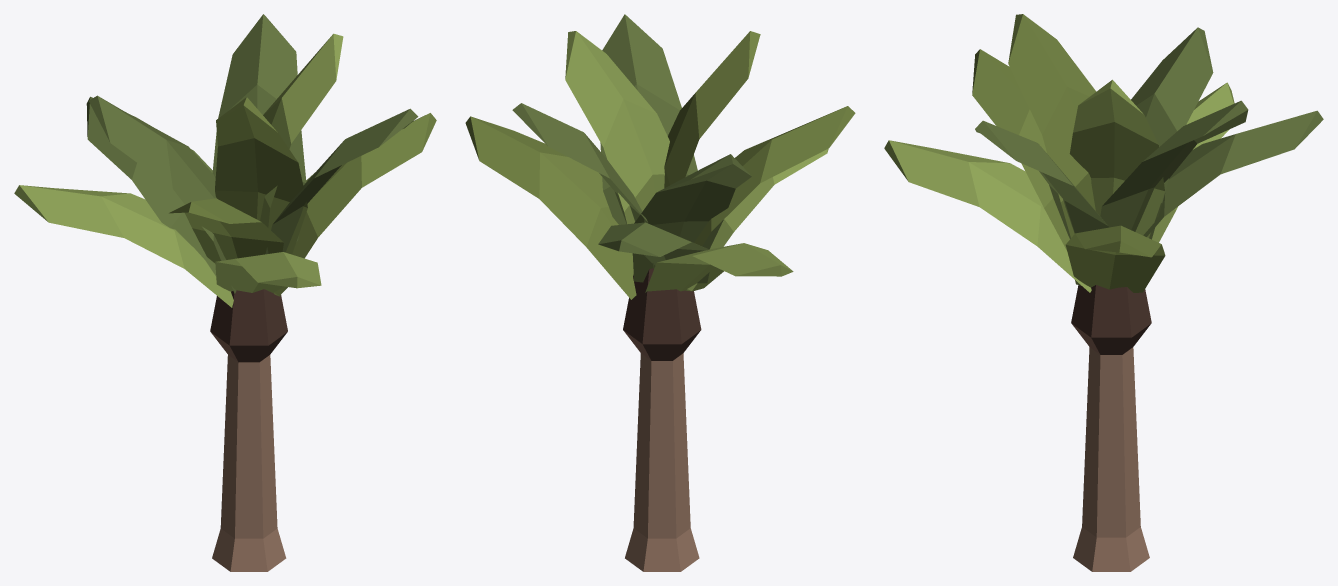
File: Tree_Type7_03.glb
3 views of the same model, side by side, from view 1: azimuth 30°, elevation 25°; view 2: azimuth 150°, elevation 25°; view 3: azimuth 270°, elevation 25° (orthographic). The views are drawn at different scales.
Parts seen in each view (by area): view 1: Tree Type7 03 Model; view 2: Tree Type7 03 Model; view 3: Tree Type7 03 Model.
Part boxes in pixels (<box>): Tree Type7 03 Model: <box>14,14,436,571</box>; Tree Type7 03 Model: <box>465,14,855,571</box>; Tree Type7 03 Model: <box>884,14,1323,571</box>.
Bounding box in the file's own units: 3.13 × 4.09 × 3.12.
Materials: 1 (1 with a texture image).
